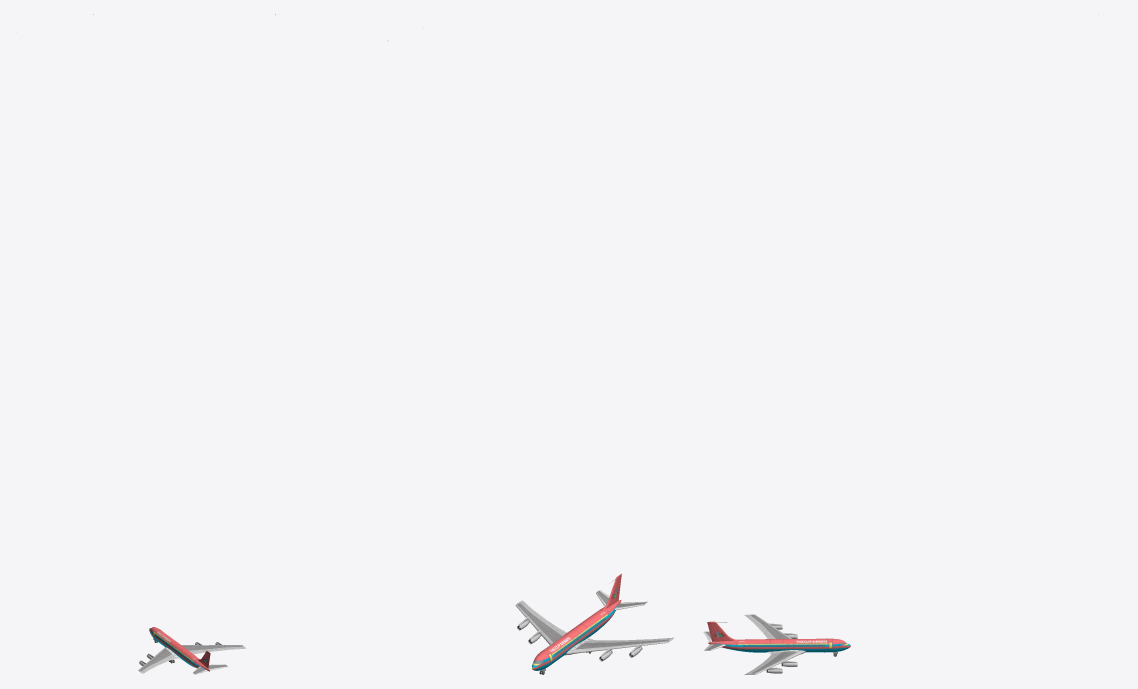
The picture shows the model from 3 angles, left to right: view 1: azimuth 30°, elevation 25°; view 2: azimuth 150°, elevation 25°; view 3: azimuth 270°, elevation 25°; orthographic projection. The views are drawn at different scales.
Visible parts, largest first — view 1: Shape_IndexedFaceSet, Shape_IndexedFaceSet.004, Shape_IndexedFaceSet.260; view 2: Shape_IndexedFaceSet, Shape_IndexedFaceSet.004, Shape_IndexedFaceSet.260; view 3: Shape_IndexedFaceSet.
Boxes of the visible parts, x1,y1,x2,y2 form: Shape_IndexedFaceSet: (149, 627, 209, 671); Shape_IndexedFaceSet.004: (138, 646, 181, 673); Shape_IndexedFaceSet.260: (181, 645, 246, 654); Shape_IndexedFaceSet: (532, 600, 621, 670); Shape_IndexedFaceSet.004: (565, 637, 674, 655); Shape_IndexedFaceSet.260: (515, 600, 566, 644); Shape_IndexedFaceSet: (708, 638, 850, 652).
Size of the model in its own units: 0.4197 by 1.9 by 1.16.
223 materials, 181 textured.
